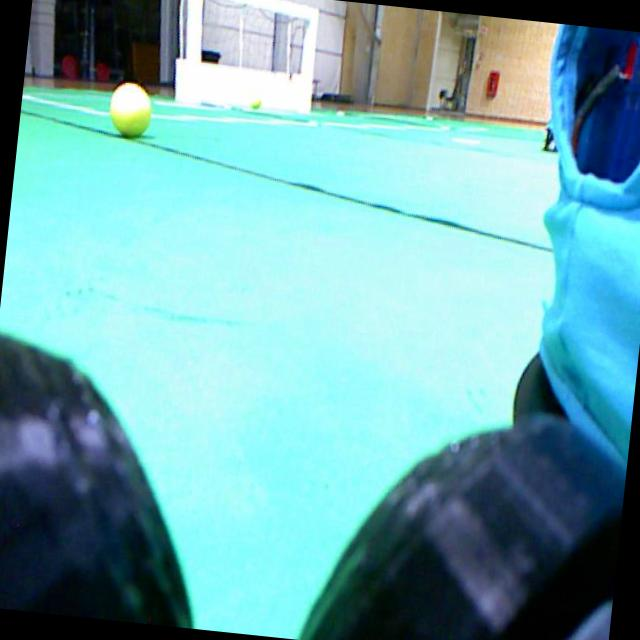ball: (109, 82, 150, 136), (250, 96, 260, 108)
goal: (181, 0, 203, 101), (298, 8, 318, 112)
